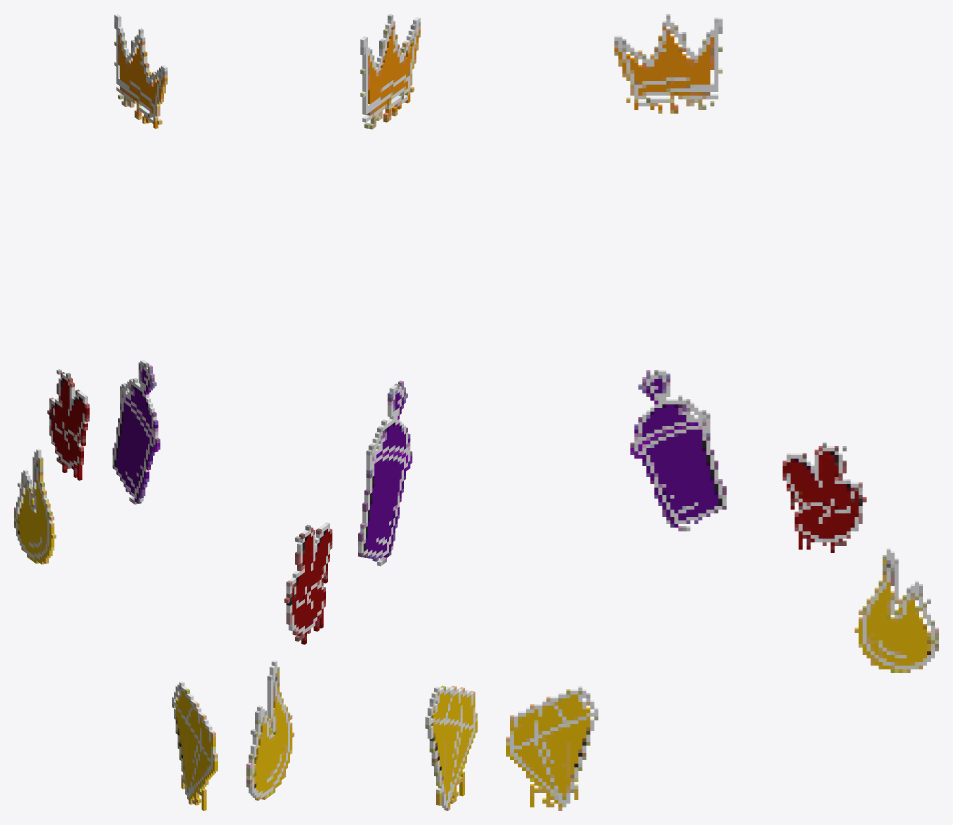
File: arcade_machine_modified-1-collection-creative-graffiti-elements.obj
The picture shows the model from 3 angles, left to right: view 1: azimuth 30°, elevation 25°; view 2: azimuth 150°, elevation 25°; view 3: azimuth 270°, elevation 25°; orthographic projection. The views are drawn at different scales.
Visible parts, largest first — view 1: collection-creative-graffiti-elements; view 2: collection-creative-graffiti-elements; view 3: collection-creative-graffiti-elements.
Part boxes in pixels (left/top/right/bottom): collection-creative-graffiti-elements: left=14, top=14, right=217, bottom=810; collection-creative-graffiti-elements: left=246, top=14, right=477, bottom=810; collection-creative-graffiti-elements: left=506, top=14, right=938, bottom=810.
Size of the model in its own units: 0.1 by 21.9 by 10.8.
1 material, 1 textured.
